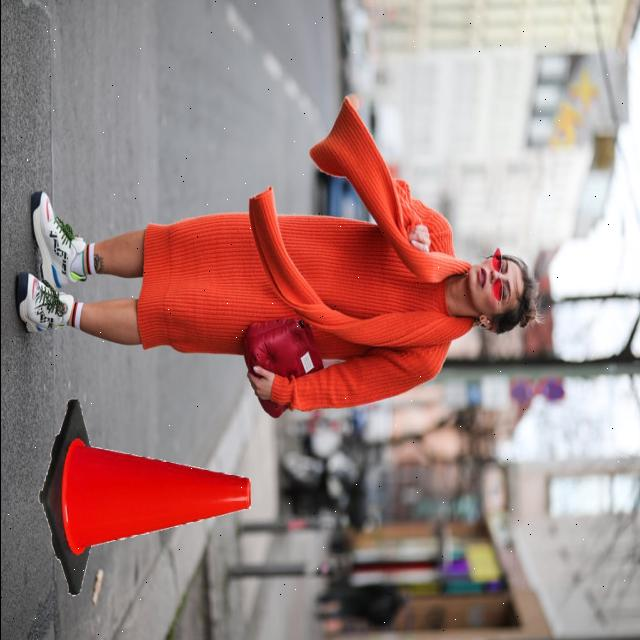traffic cone: (42, 397, 256, 606)
